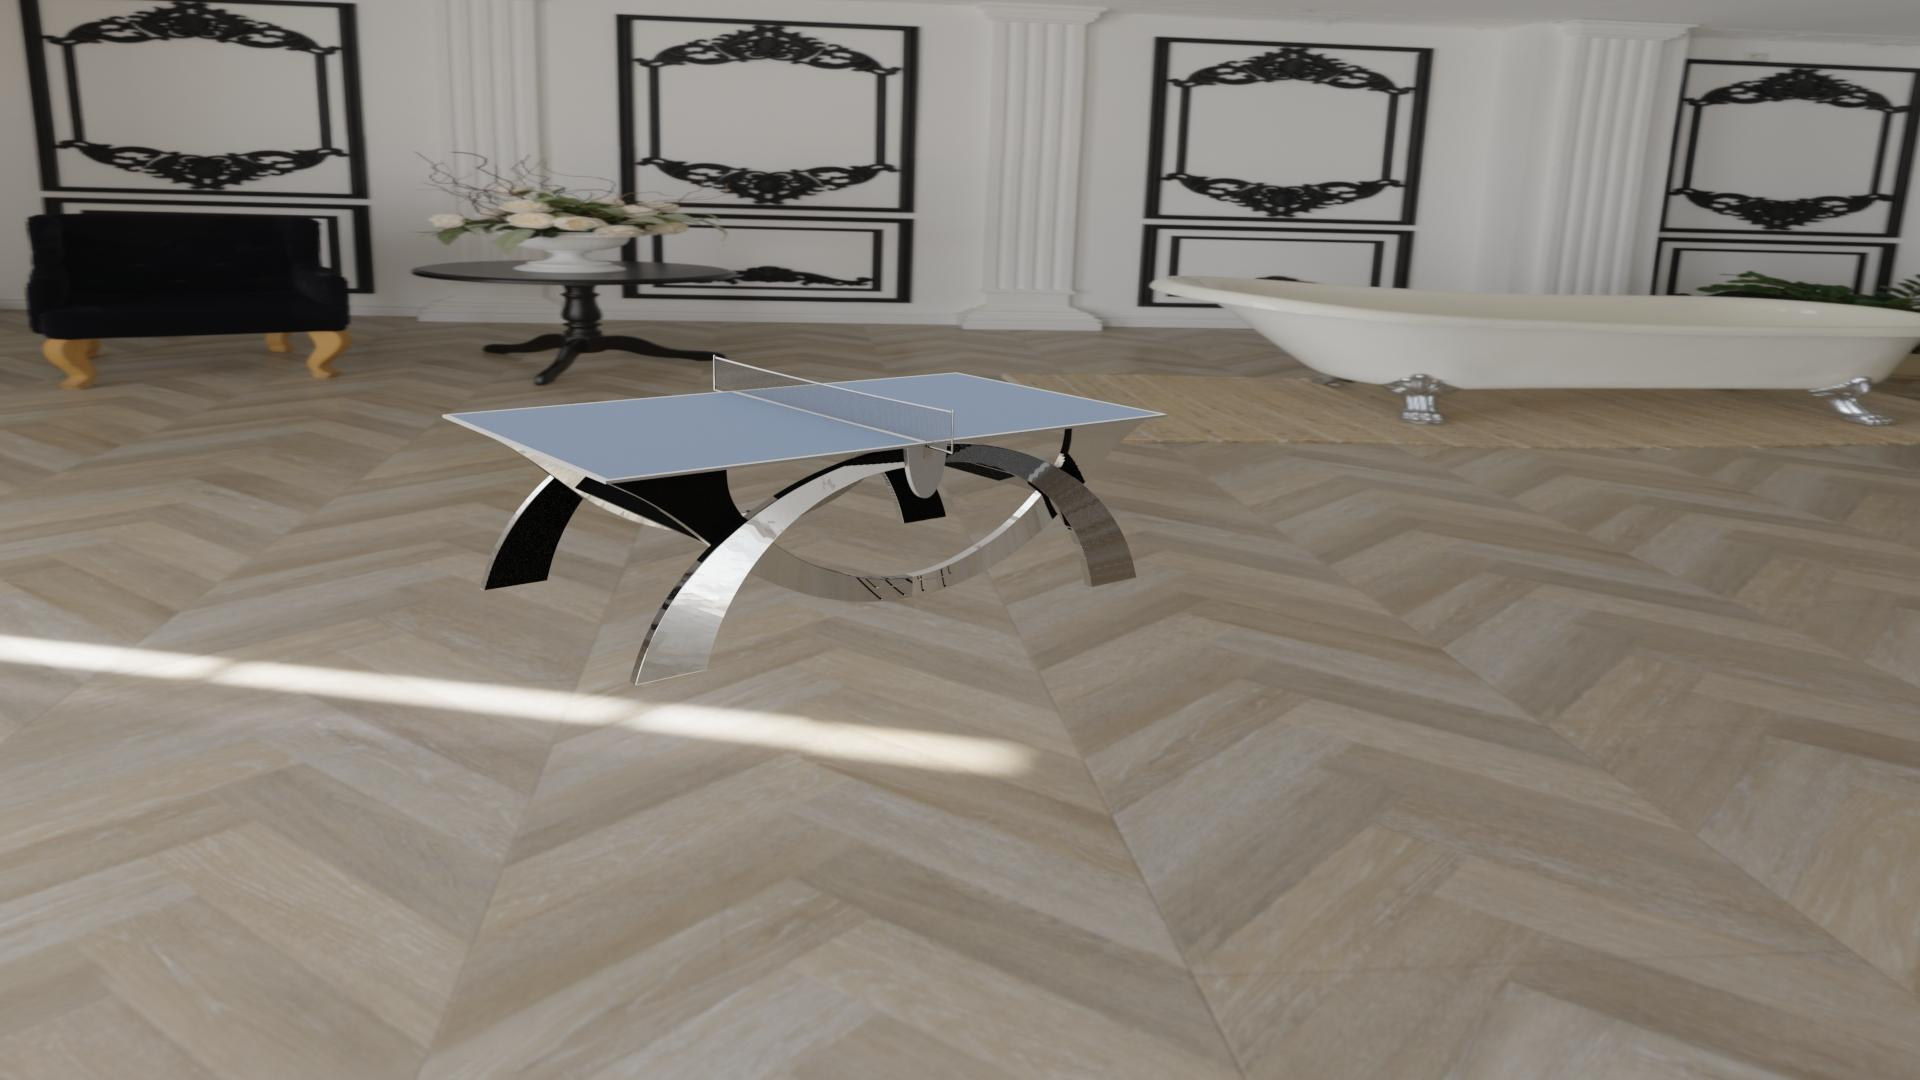table: (448, 373, 1162, 479)
